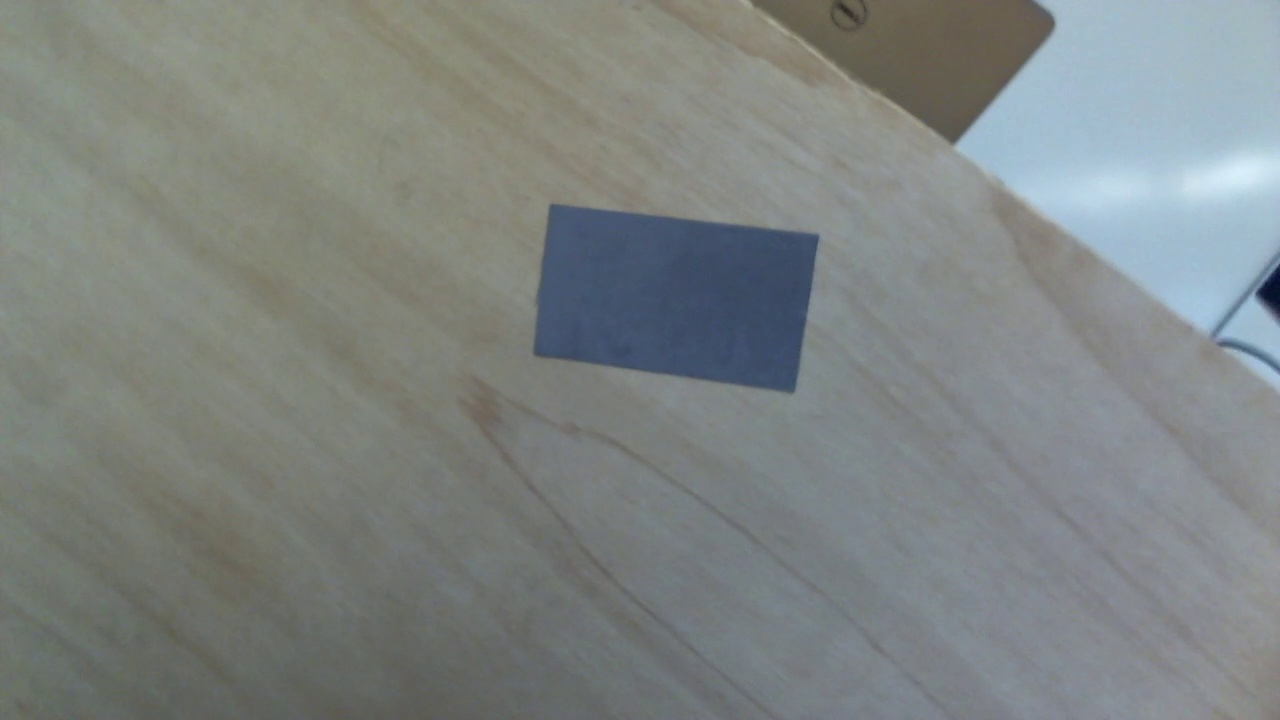Tape: (532, 203, 817, 396)
